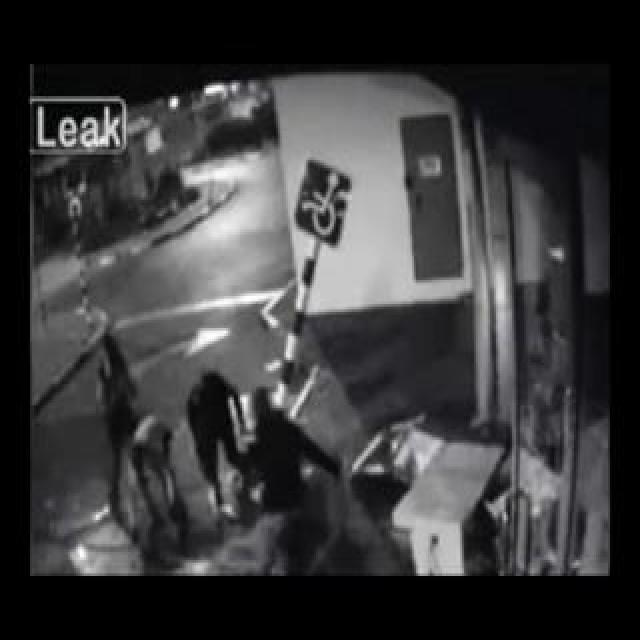thief: (75, 329, 311, 478)
